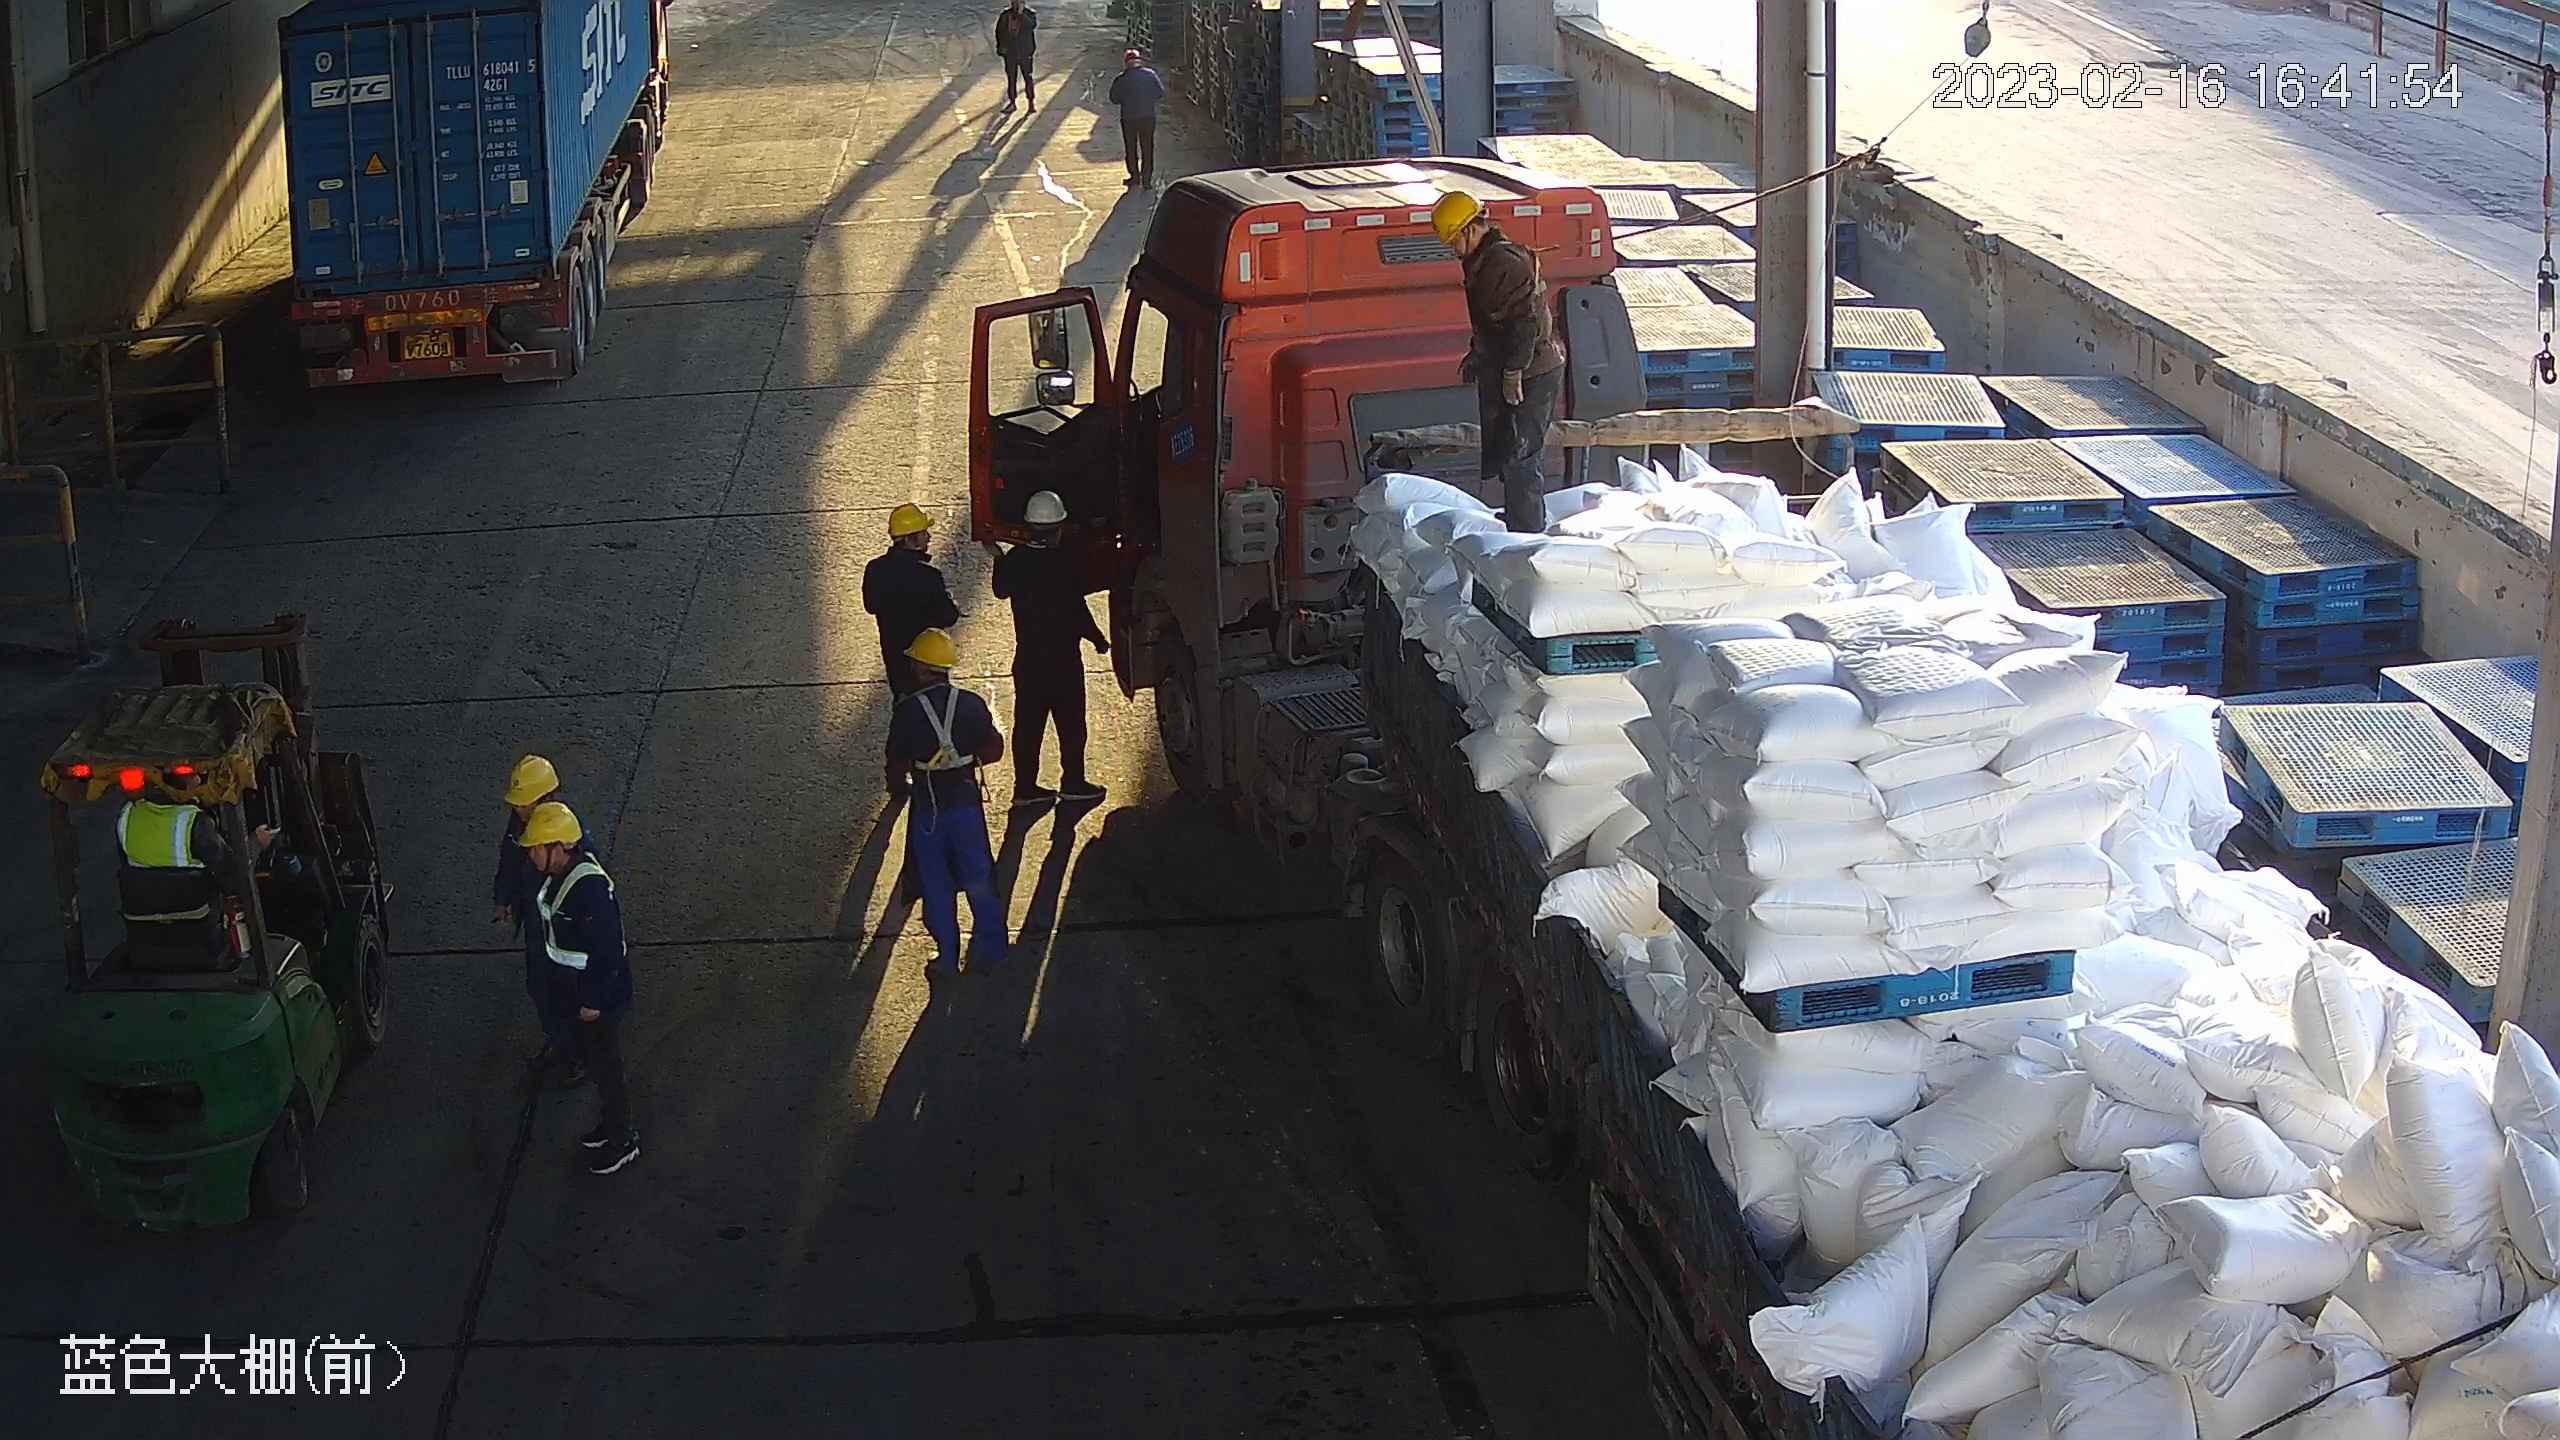belt: (1456, 235, 1565, 317), (909, 687, 979, 778)
head: (518, 801, 615, 918), (1431, 187, 1528, 300), (992, 491, 1086, 601), (889, 628, 986, 731), (864, 502, 947, 592), (1106, 47, 1161, 93), (996, 1, 1037, 34)
helmet: (1431, 190, 1488, 245), (519, 803, 584, 848), (504, 753, 560, 804), (902, 628, 959, 669), (1022, 491, 1068, 523), (888, 504, 934, 534), (1124, 47, 1142, 62)
people: (517, 798, 648, 1176), (1430, 187, 1564, 535), (886, 629, 1013, 976), (989, 488, 1110, 798), (864, 502, 958, 796), (1105, 48, 1165, 185), (994, 1, 1038, 114)
truck: (969, 159, 2560, 1440), (274, 1, 664, 400)
